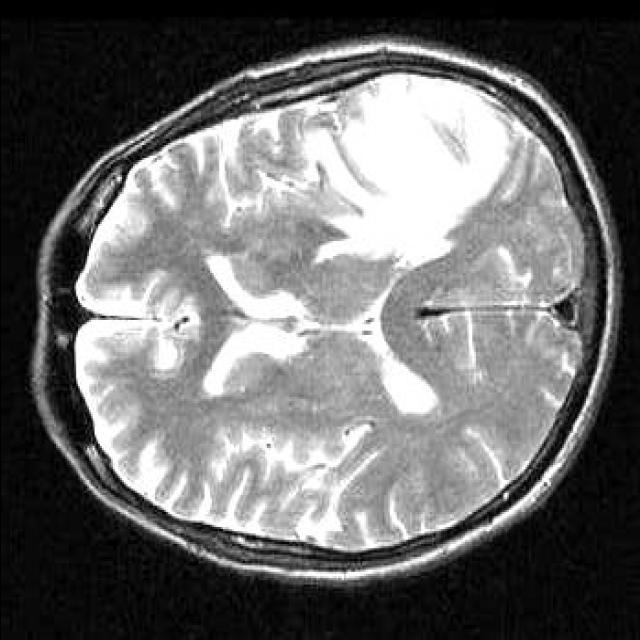tumor: (328, 75, 559, 267)
